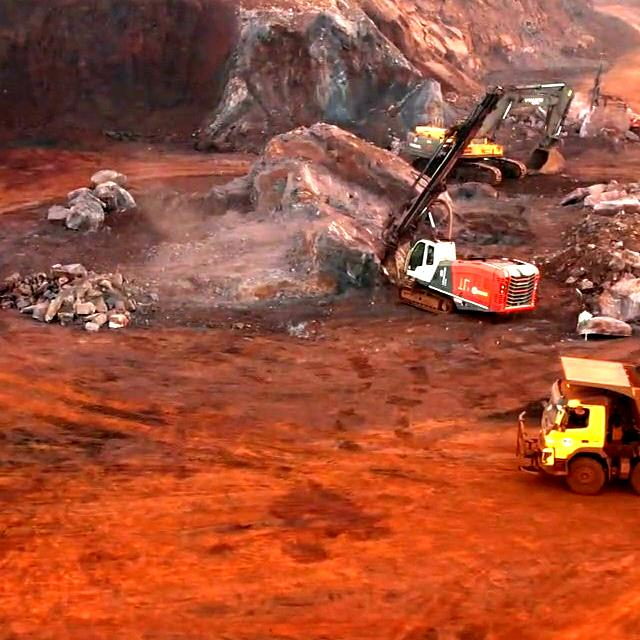Blast rig: (399, 236, 538, 314)
Dumper truck: (549, 376, 640, 481)
Excavator: (410, 124, 514, 178)
